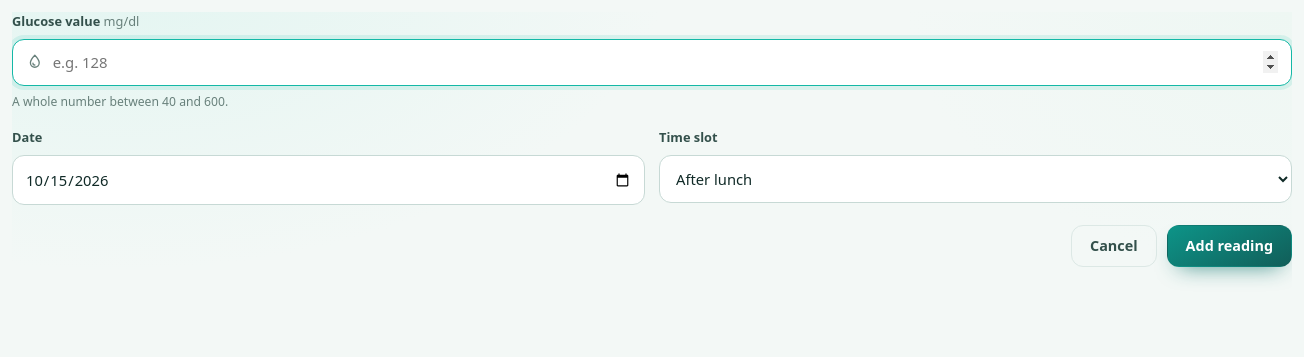
Test: ReadingForm › shows an API error such as a duplicate slot
Type "130" into the number field labelled "Glucose value mg/dl" at (665, 62), box x1=53 y1=40 x2=1278 y2=85
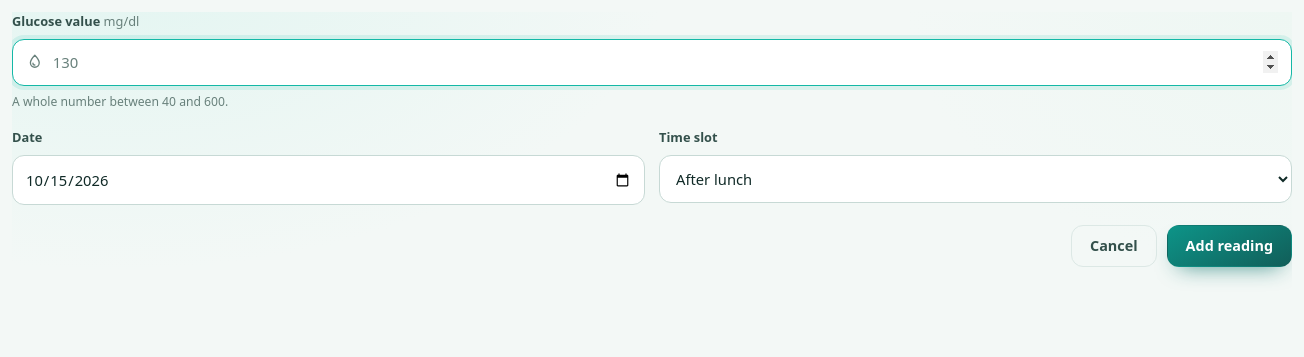
Click the button "Add reading" at (1229, 246), box x1=1167 y1=225 x2=1292 y2=267
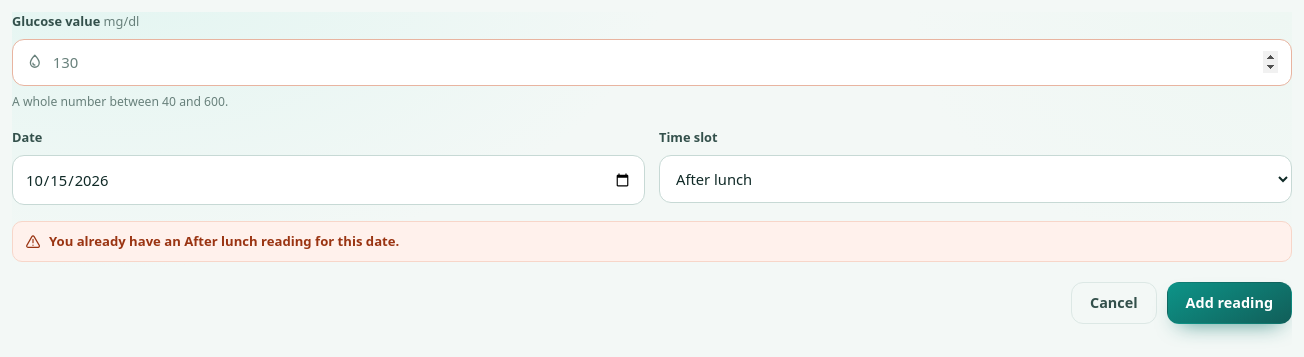
Check: the text "You already have an After lunch reading for this date." is shown, box x1=12 y1=221 x2=1292 y2=262
